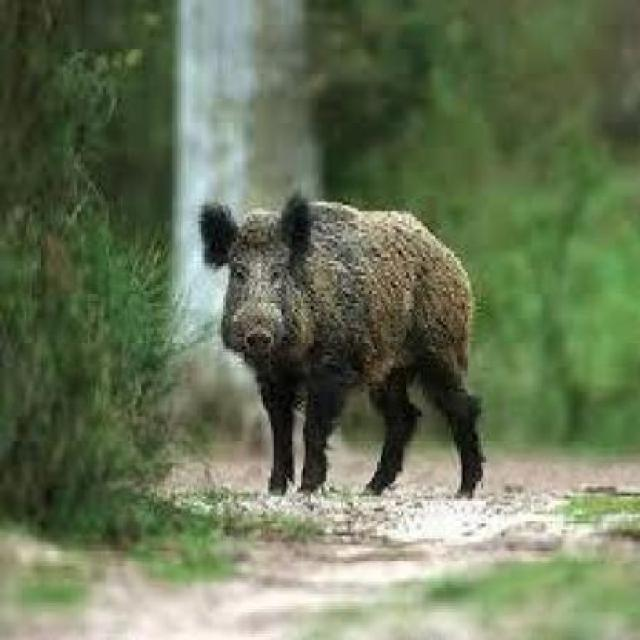wildboar: (194, 192, 492, 506)
